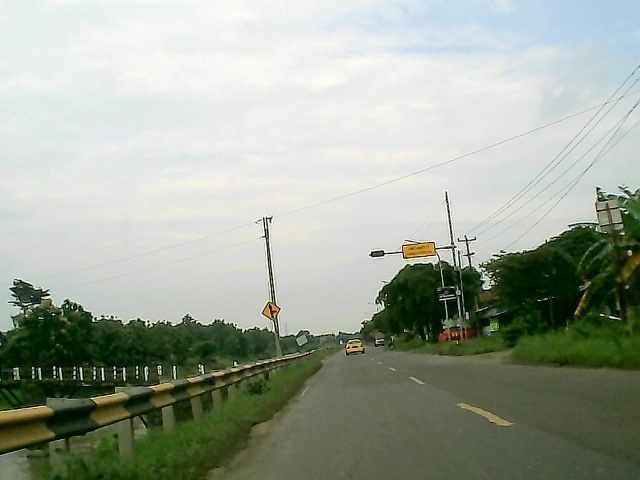Simpang kanan dengan prioritas: (260, 301, 281, 321)
